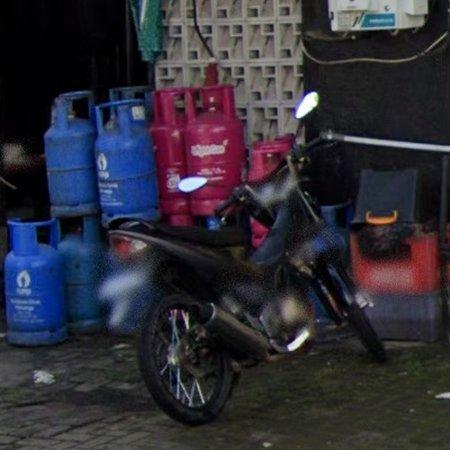motorcycles: (108, 139, 387, 426)
